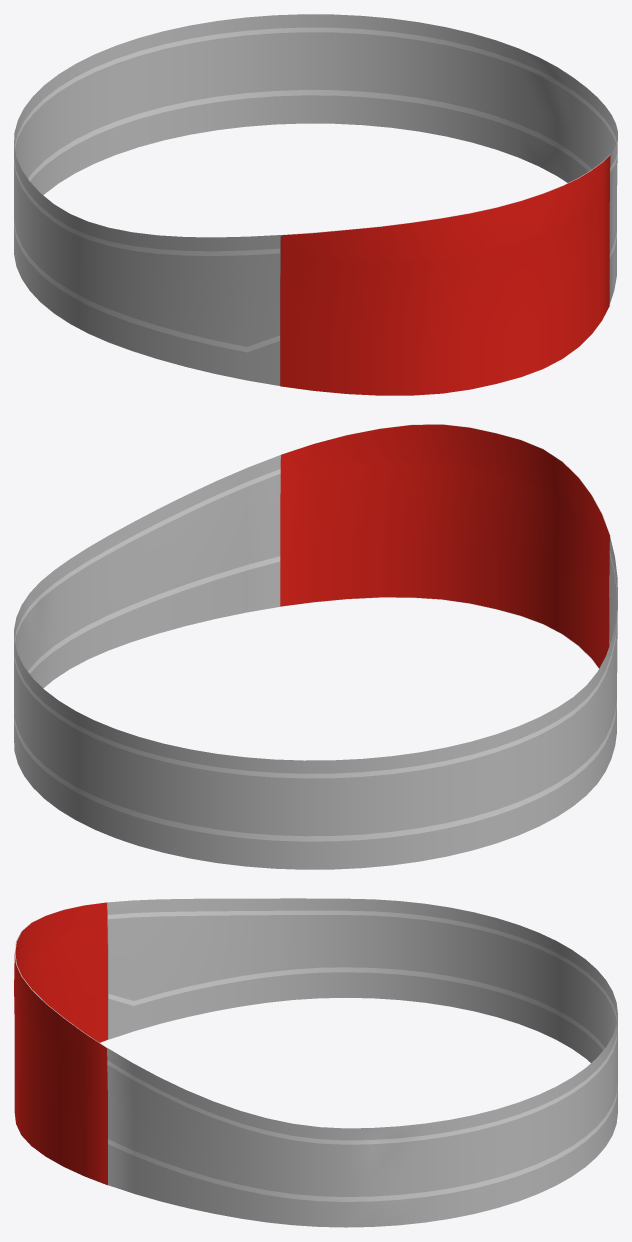
Rendered from ProBuilder_Walls.fbx.
The picture shows the model from 3 angles, top to bottom: view 1: azimuth 30°, elevation 25°; view 2: azimuth 150°, elevation 25°; view 3: azimuth 270°, elevation 25°; orthographic projection. The views are drawn at different scales.
Parts seen in each view (by area): view 1: ProBuilder_Walls.002; view 2: ProBuilder_Walls.002; view 3: ProBuilder_Walls.002.
Part boxes in pixels (x1,y1,x2,y2): ProBuilder_Walls.002: [14, 14, 617, 395]; ProBuilder_Walls.002: [14, 424, 617, 869]; ProBuilder_Walls.002: [14, 898, 617, 1227].
Bounding box in the file's own units: 120 × 38.76 × 133.
